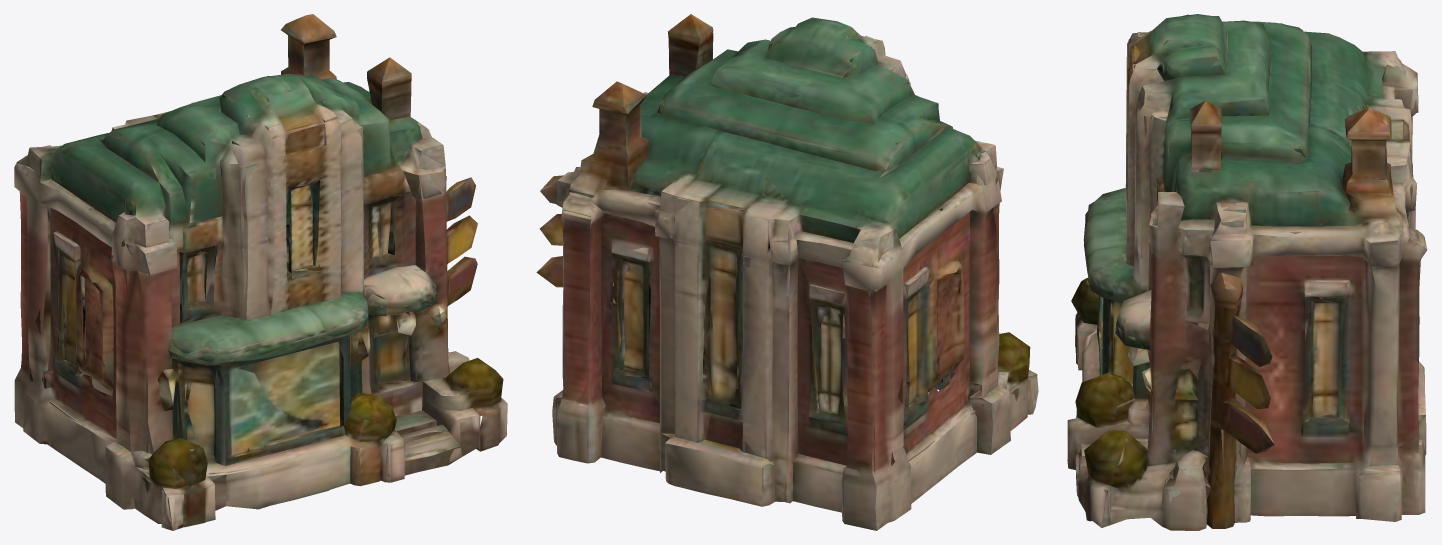
File: junction_hub.glb
The picture shows the model from 3 angles, left to right: view 1: azimuth 30°, elevation 25°; view 2: azimuth 150°, elevation 25°; view 3: azimuth 270°, elevation 25°; orthographic projection. The views are drawn at different scales.
Visible parts, largest first — view 1: expansion__junction_hub__neural_lod; view 2: expansion__junction_hub__neural_lod; view 3: expansion__junction_hub__neural_lod.
Boxes of the visible parts, <box> form: expansion__junction_hub__neural_lod: <box>14,14,507,530</box>; expansion__junction_hub__neural_lod: <box>536,14,1038,530</box>; expansion__junction_hub__neural_lod: <box>1067,14,1427,530</box>.
Bounding box in the file's own units: 0.9937 × 0.8826 × 0.6972.
Materials: 1 (1 with a texture image).
